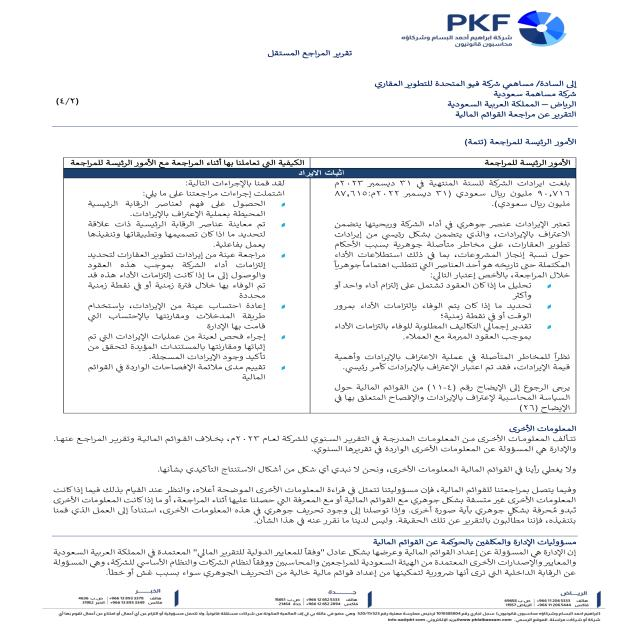auditor_report: (249, 48, 360, 62)
